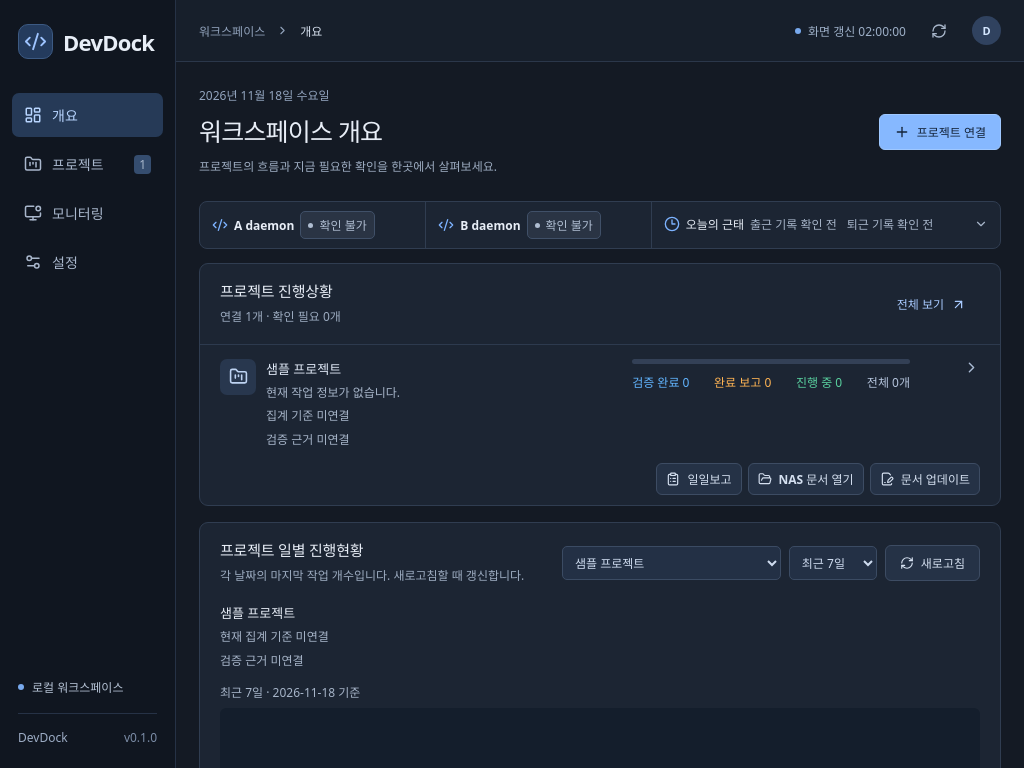
Test: opens a folder editor already linked to the project from an empty report
This screenshot has width=1024, height=768.
Click the button with aria-label "샘플 프로젝트 일일보고".
click(699, 479)  # box [656, 463, 742, 495]
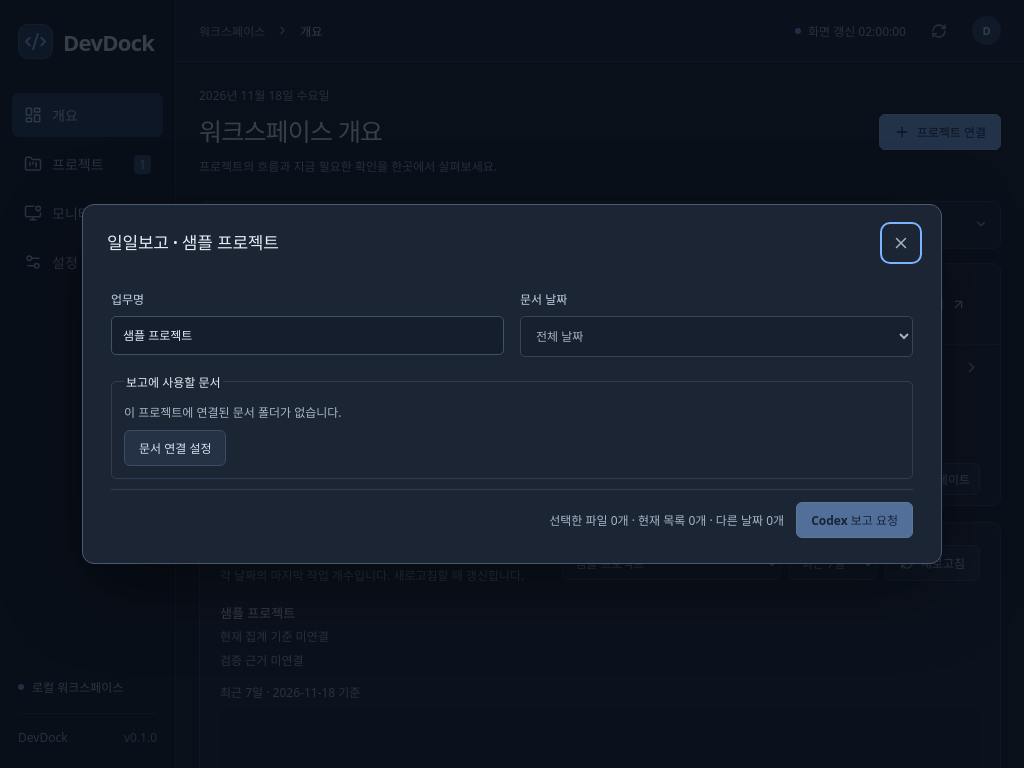
Expected: the text "이 프로젝트에 연결된 문서 폴더가 없습니다." is shown, [124, 404, 342, 421]
Click the button "문서 연결 설정".
click(175, 448)  # box [124, 430, 226, 466]
(page scrolled)
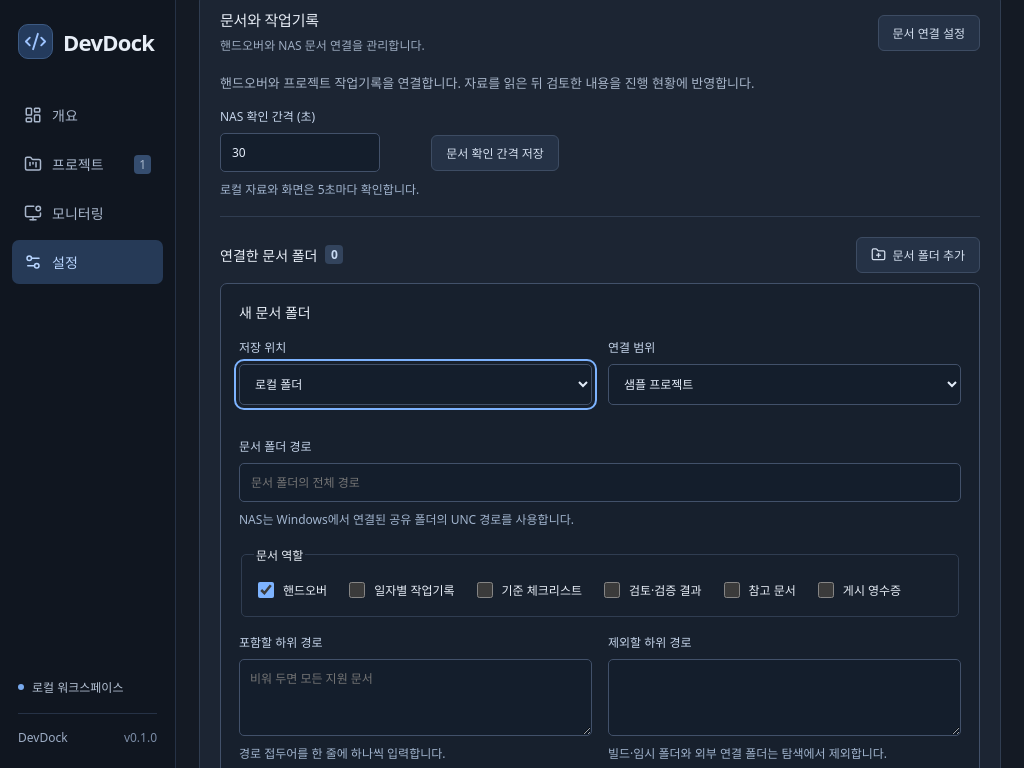
Expected: the dropdown labelled "연결 범위" shows "샘플 프로젝트", [608, 364, 961, 405]
Expected: the dropdown labelled "저장 위치" shows "로컬 폴더", [239, 364, 592, 405]
Expected: the heading "일일보고 · 샘플 프로젝트" is gone
